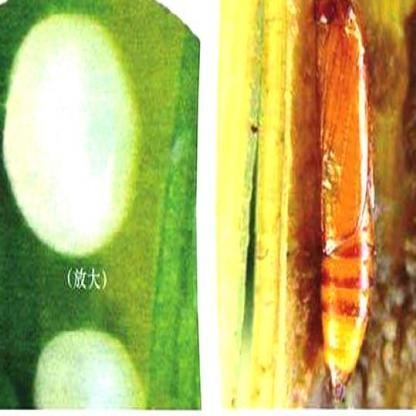whorl-maggot: (308, 0, 384, 416)
